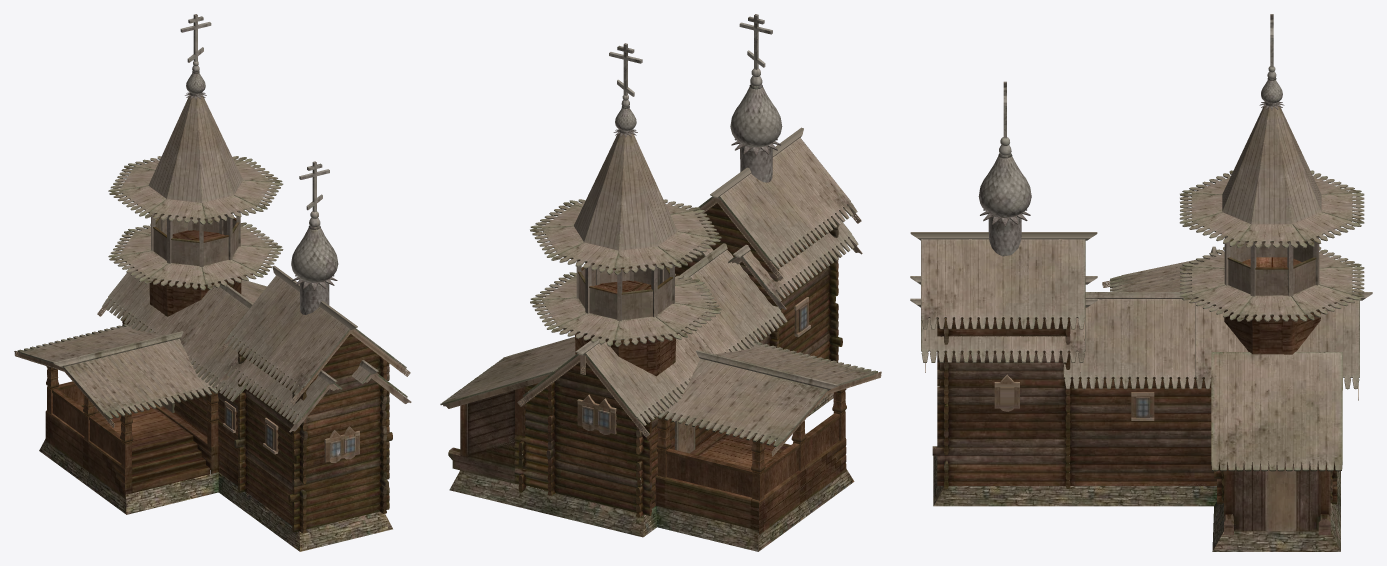
The model's file is karelian.glb.
3 renders of one model, left to right at view 1: azimuth 30°, elevation 25°; view 2: azimuth 150°, elevation 25°; view 3: azimuth 270°, elevation 25°, orthographic. The views are drawn at different scales.
Parts seen in each view (by area): view 1: Object_2; view 2: Object_2; view 3: Object_2.
Part boxes in pixels (box(x1,y1,x2,y2)): Object_2: box(14, 14, 411, 551); Object_2: box(440, 14, 881, 551); Object_2: box(910, 14, 1372, 551).
Size of the model in its own units: 10.55 by 13.69 by 12.31.
Materials: 1 (1 with a texture image).
